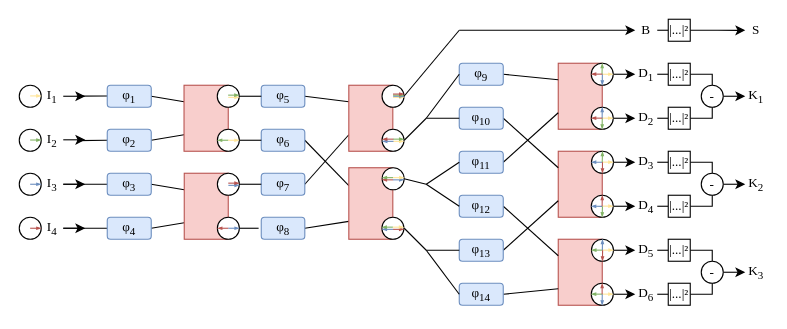
Some shapes in this 787 by 329 pixel diagram are drawn without their labels. The shapes that lost their labels are listed below. From the top down, each one's box as (x1, y1, x2, y2) in pixels, then its label:
(557, 62, 602, 129): R 1
(183, 84, 228, 151): N 1
(348, 84, 393, 151): N 3
(348, 167, 393, 239): N 4
(557, 150, 602, 217): R 2
(183, 172, 228, 239): N 2
(557, 238, 602, 305): R 3
